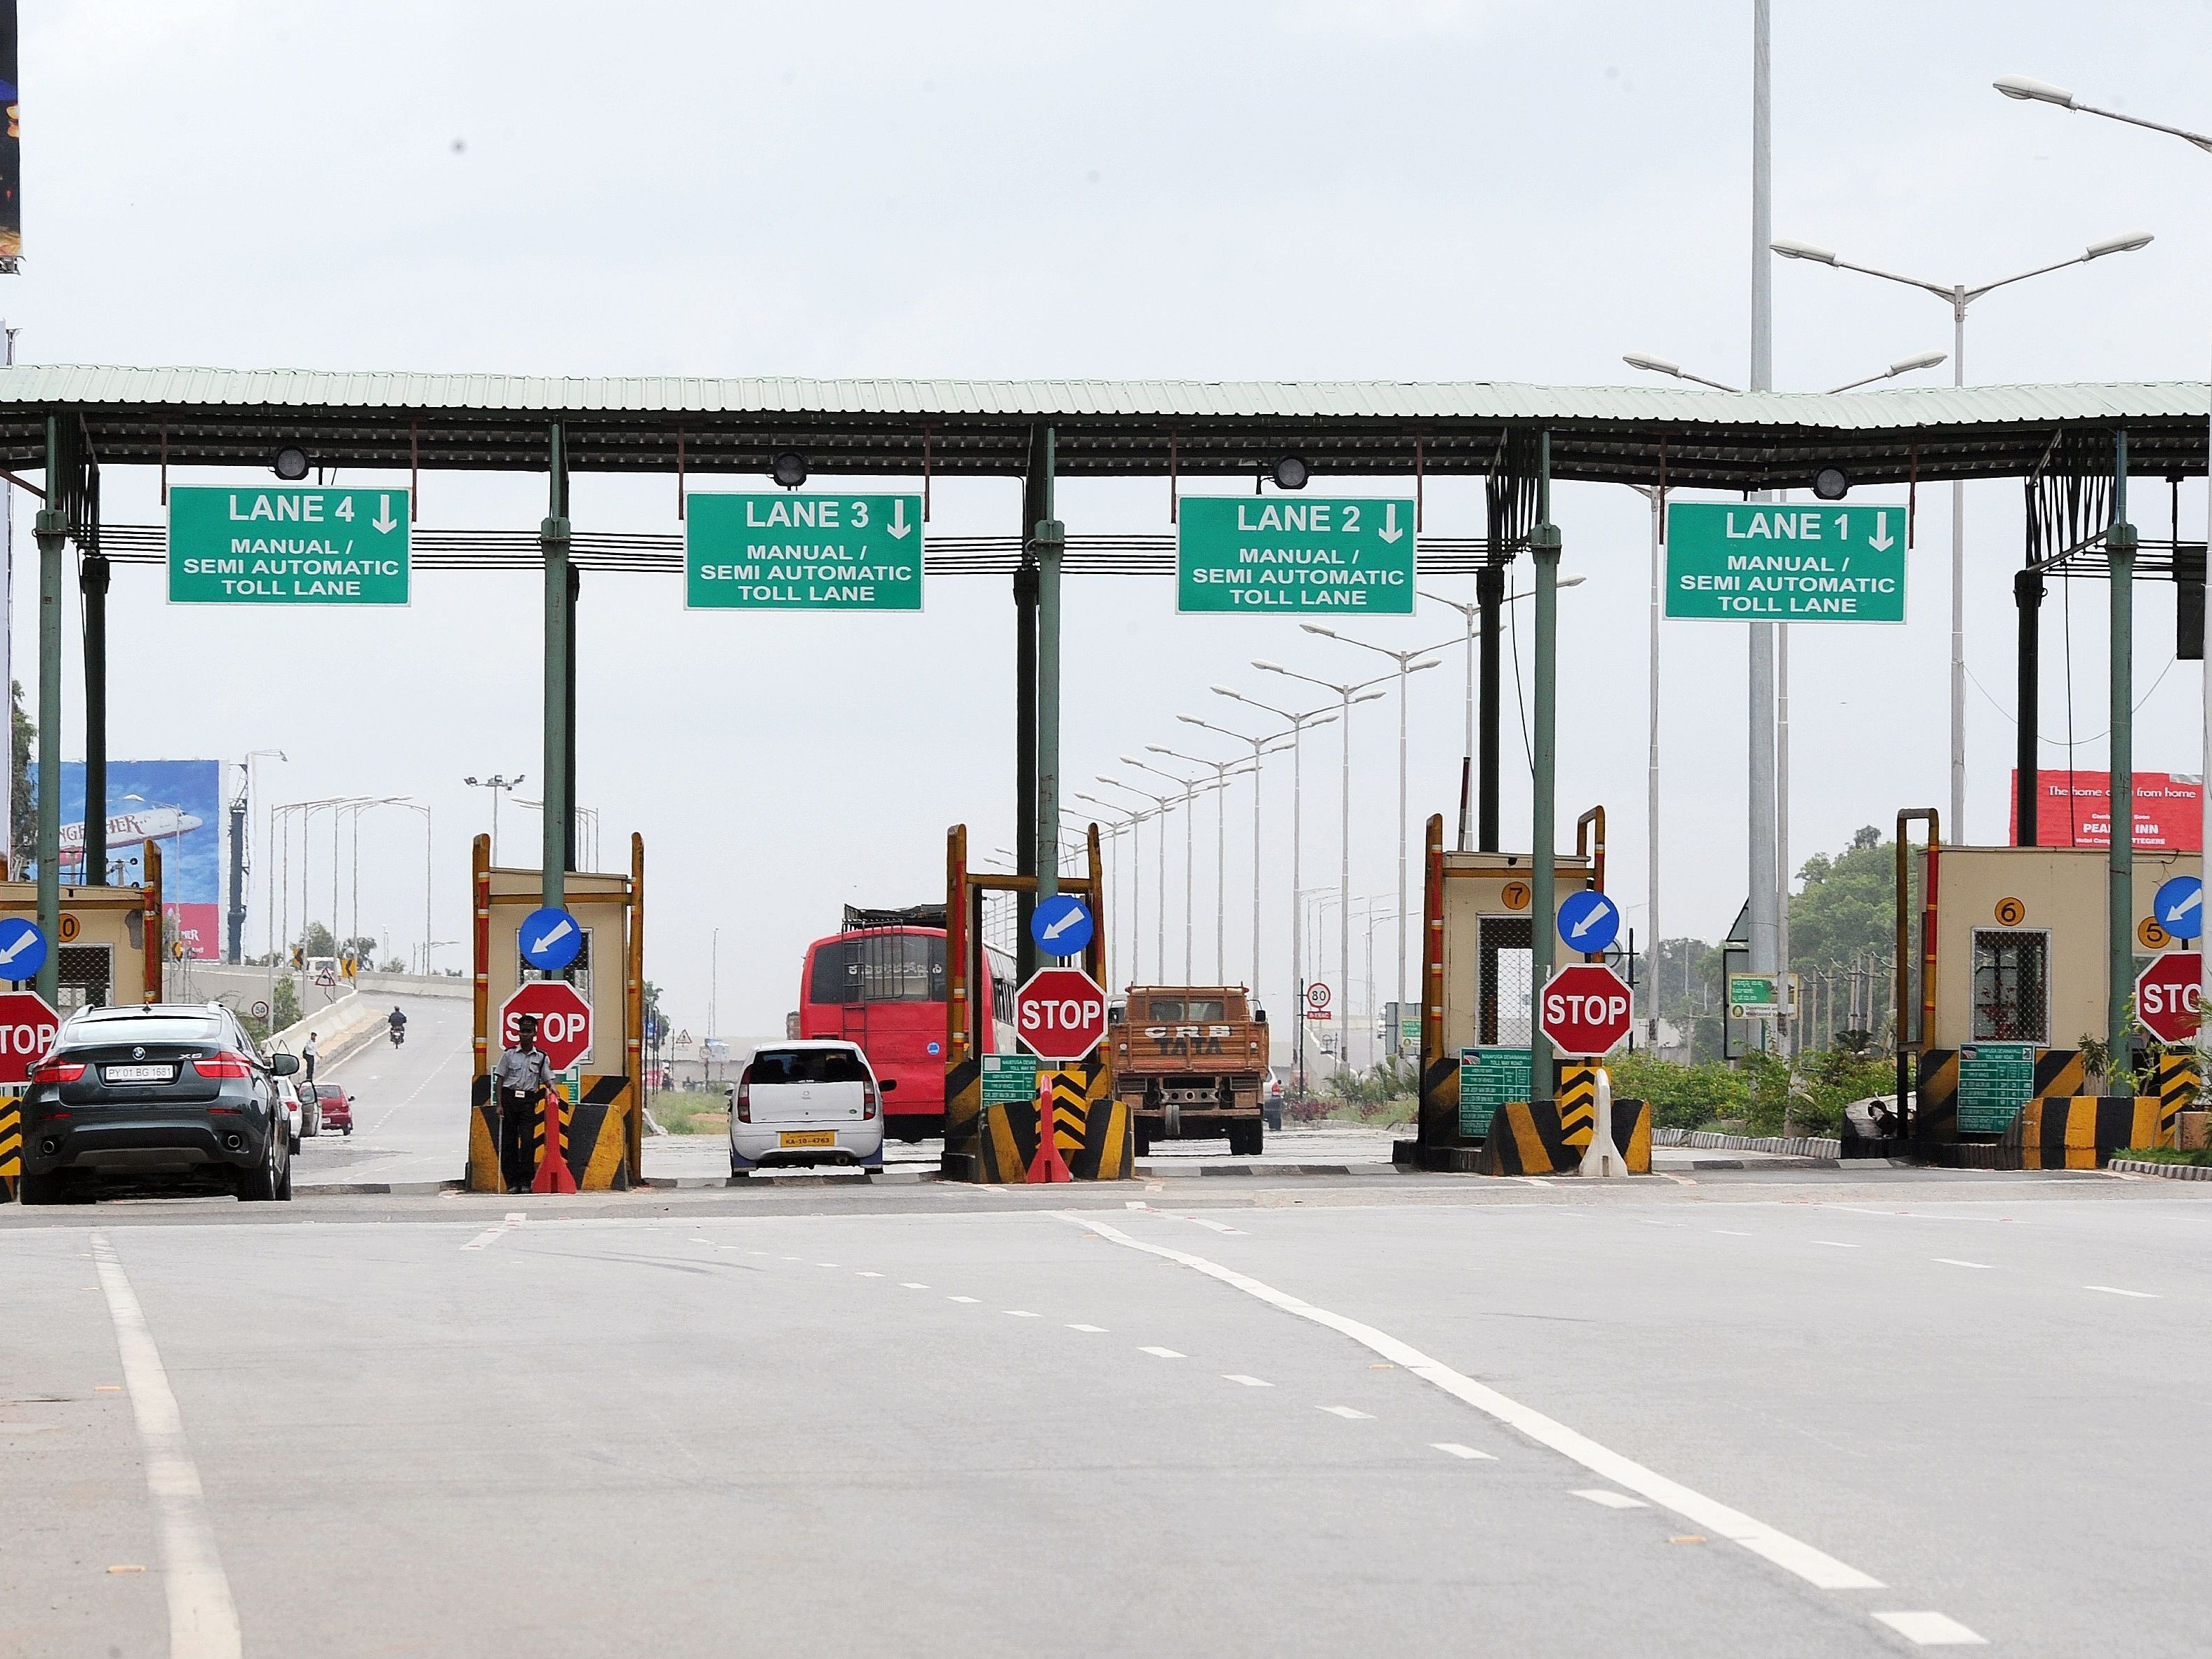toll plaza: (49, 321, 2207, 1202)
